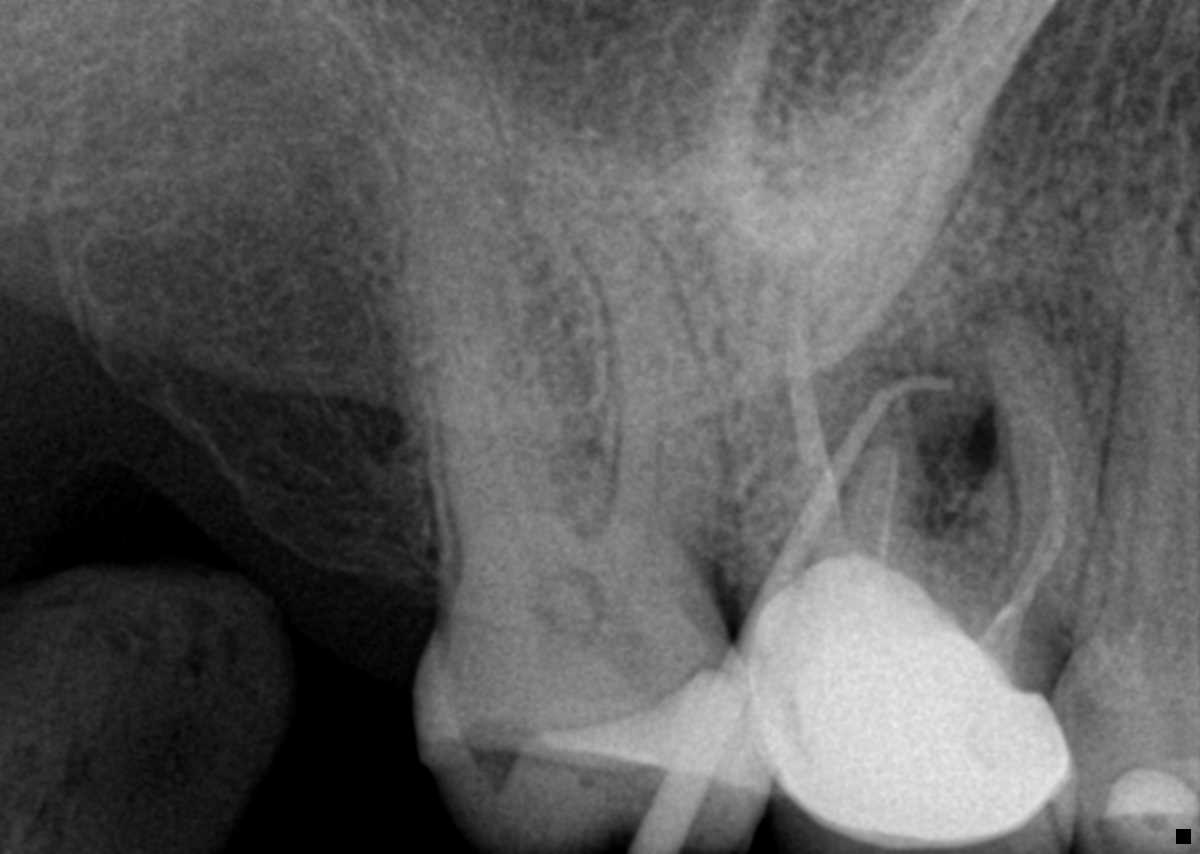Apical Lesion: (916, 279, 1114, 471)
Distal Root: (418, 244, 576, 551), (840, 393, 933, 564)
Mesial Canal: (597, 301, 663, 585)
Mesial Root: (556, 194, 727, 554), (986, 315, 1113, 635)
Palatal Root: (399, 48, 640, 568), (730, 201, 926, 592)
Root Canal Filling: (1009, 418, 1076, 605), (784, 273, 839, 499), (877, 452, 898, 548)
